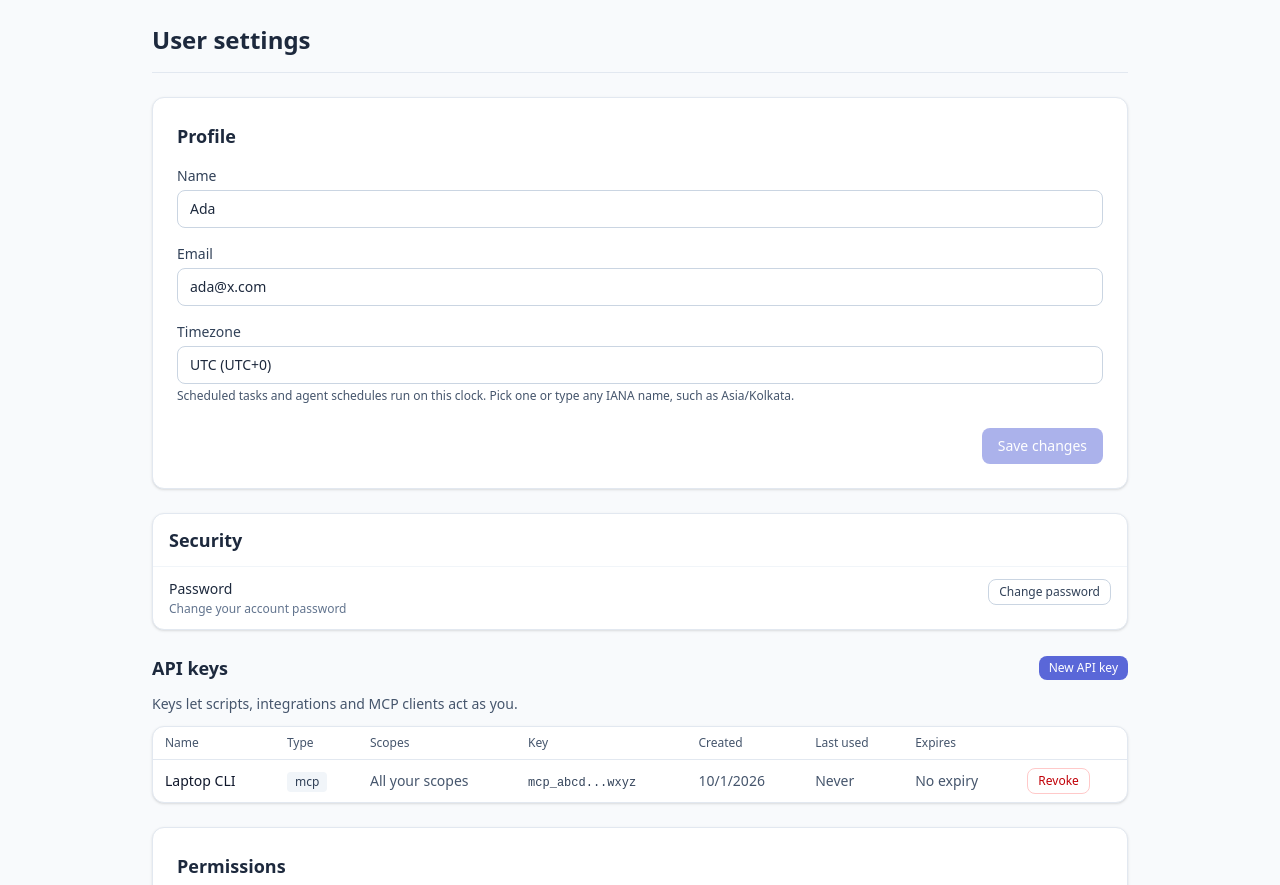
Test: UserSettings API keys › revokes a key after confirmation
This screenshot has width=1280, height=885.
Expected: the text "Laptop CLI" is shown, [153,760,275,802]
Step 1. Click the button "Revoke" → (1059, 781), box [1027,768,1090,794]
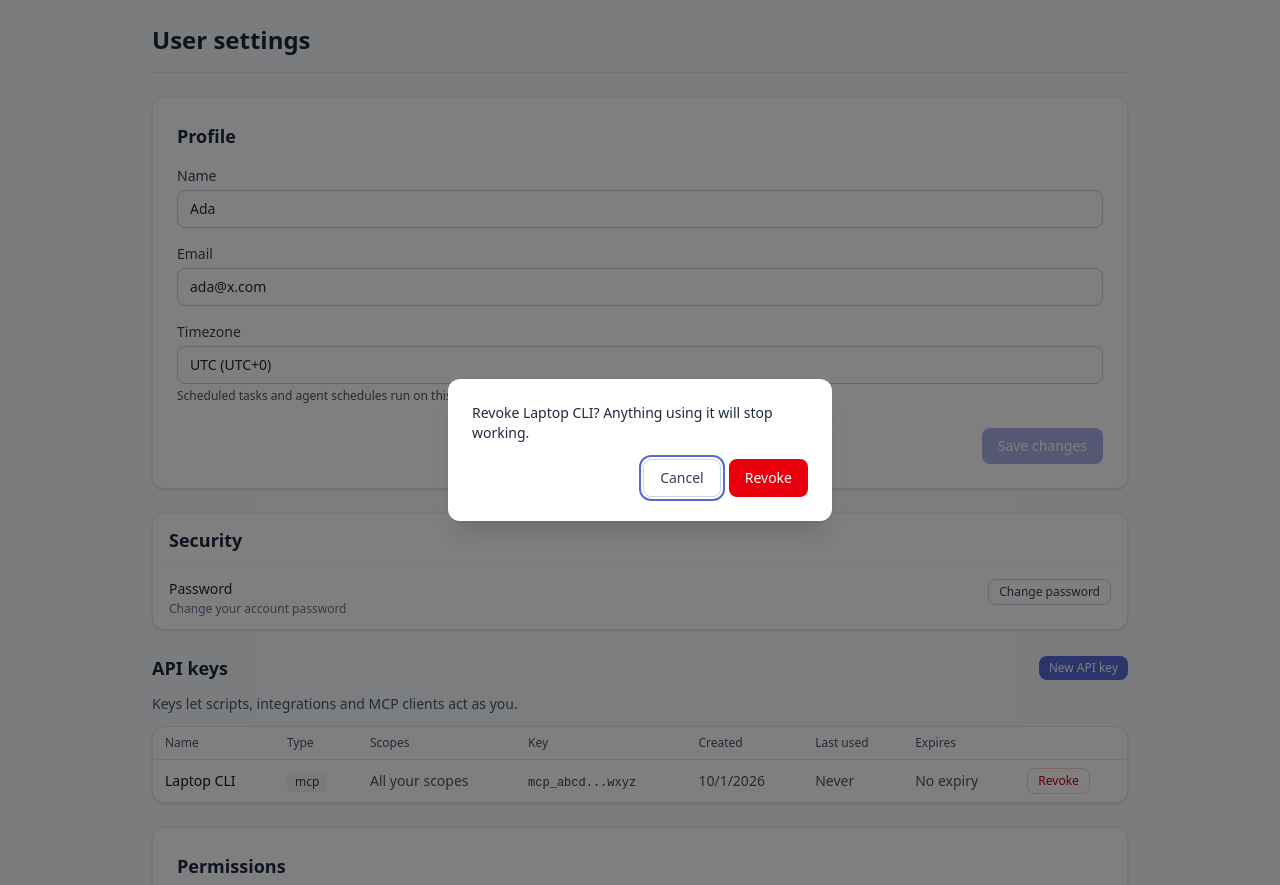
Step 2. Click the 1st button "Revoke" → (768, 478), box [729,459,808,497]
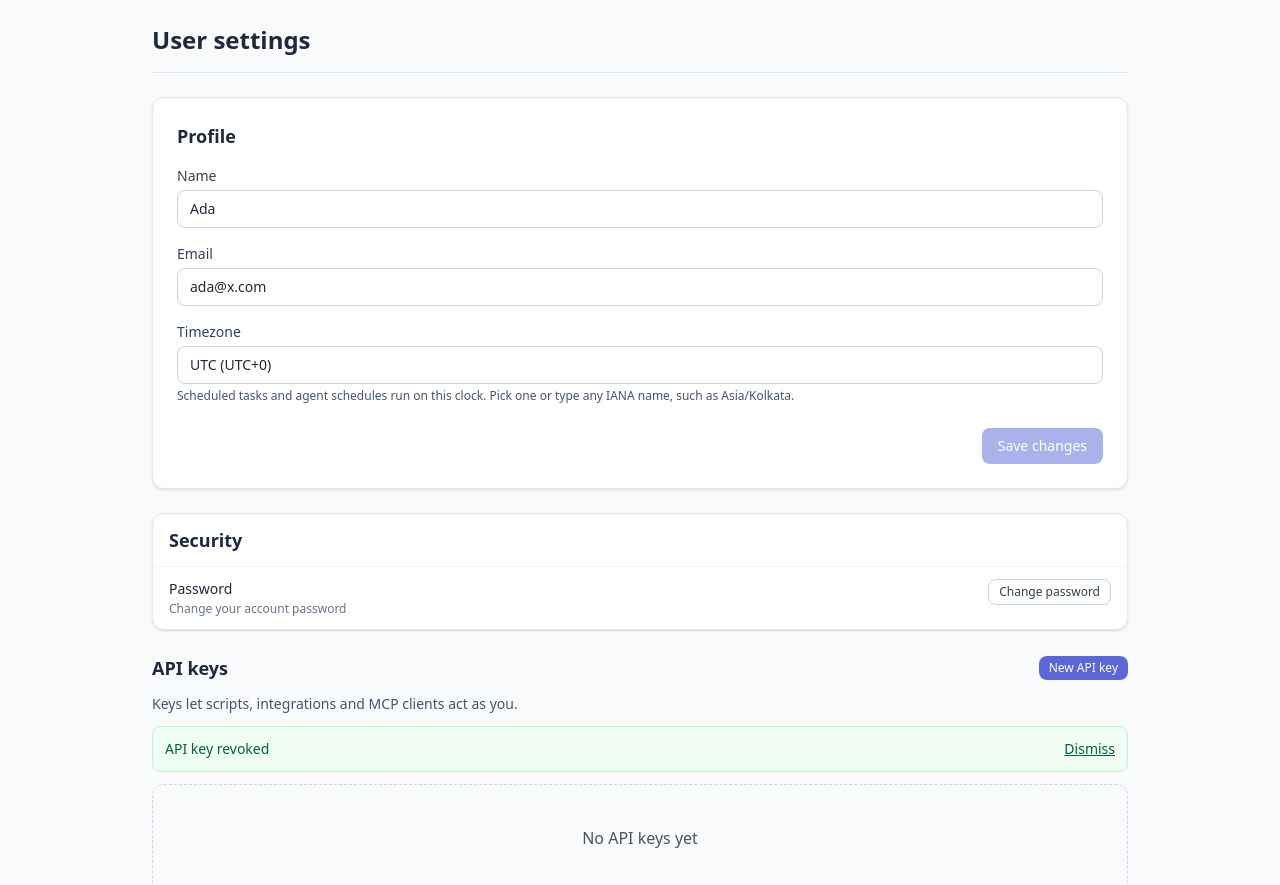
Expected: the text "No API keys yet" is shown, [582,827,698,849]
